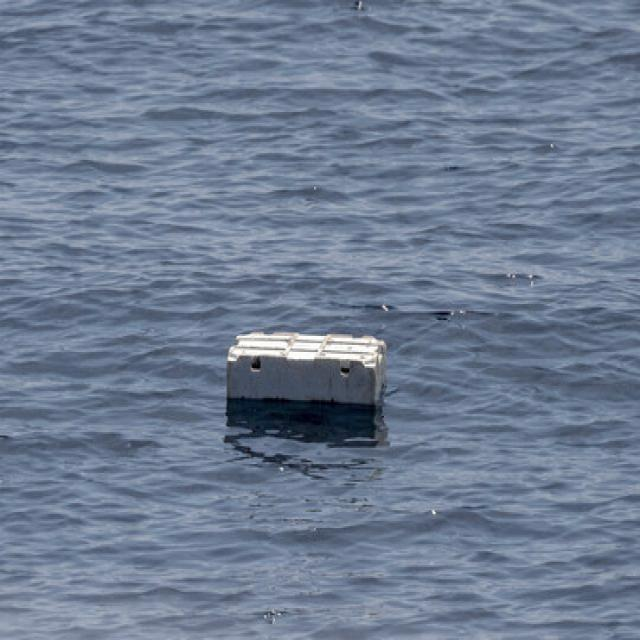Trash: (227, 325, 389, 410)
